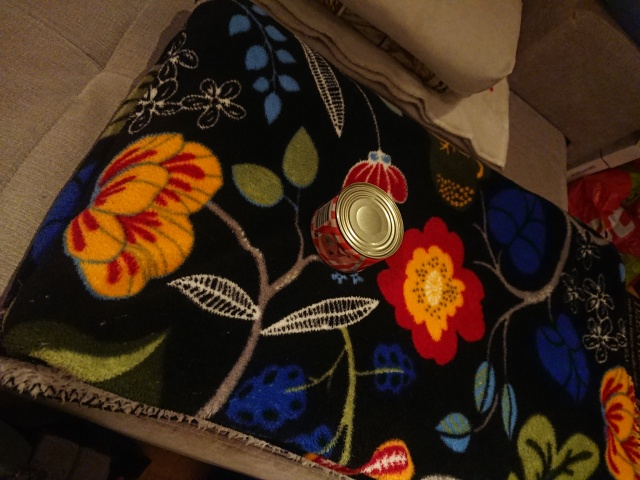Podravka Luncheon Meat 150g: (307, 180, 406, 277)
